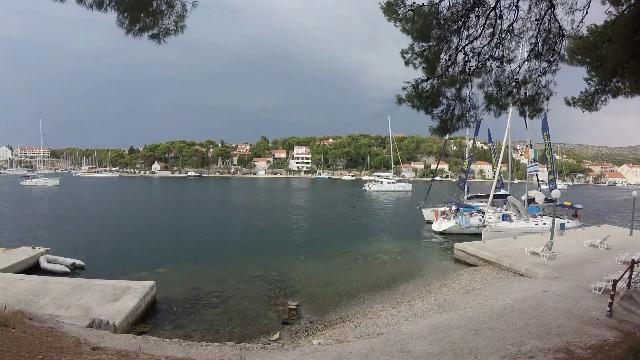Sailboat: (359, 172, 417, 196), (16, 171, 64, 191)
